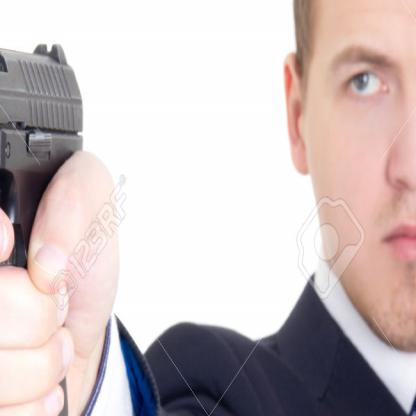gun: (0, 4, 110, 334)
